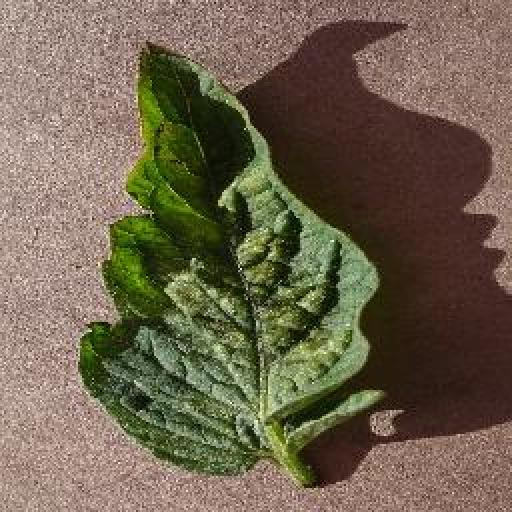disease_tomato: (79, 40, 380, 479)
